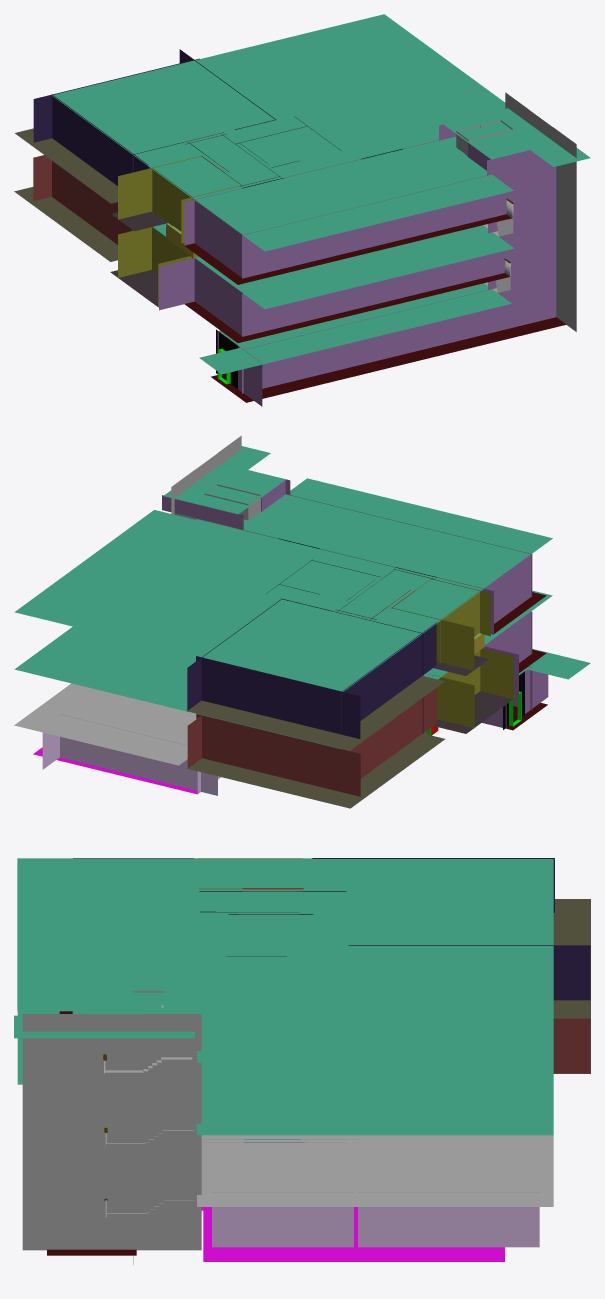
Rendered from Layout V3.fbx.
The picture shows the model from 3 angles, top to bottom: view 1: azimuth 30°, elevation 25°; view 2: azimuth 150°, elevation 25°; view 3: azimuth 270°, elevation 25°; orthographic projection. The views are drawn at different scales.
Parts seen in each view (by area): view 1: stena_banq13 (×2), Stena_apartament42 (×2), Stena_apartament40 (×2), stena_banq12 (×2), Stena_apartament41 (×2), Stena_apartament39 (×2), Stena_koridor219, Stena_koridor284, Stena_koridor263, Stena_koridor271, Stena_koridor285, Stena_koridor270 (+115 smaller); view 2: Stena_apartament39 (×2), Stena_apartament38 (×2), stena_banq13 (×2), Stena_koridor190 (×2), Stena_koridor189 (×2), Stena_koridor186 (×2), Stena_koridor184 (×2), Stena_koridor191 (×2), Stena_apartament42 (×2), Stena_apartament41 (×2), Stena_koridor185 (×2), stena_banq8 (×2) (+100 smaller); view 3: Stena_apartament47 (×2), Stena_koridor265, Stena_koridor226, Stena_koridor225, Stena_koridor268, Stena_koridor267, Stena_koridor240, Stena_koridor266, Stena_koridor230, Stena_koridor228, Stena_koridor241, Stena_koridor190 (×2) (+99 smaller).
Boxes of the visible parts, <box> form: stena_banq13 (×2): <box>118,166,159,277</box>; Stena_apartament42 (×2): <box>75,112,99,231</box>; Stena_apartament40 (×2): <box>52,94,75,213</box>; stena_banq12 (×2): <box>152,168,176,273</box>; Stena_apartament41 (×2): <box>99,130,124,244</box>; Stena_apartament39 (×2): <box>33,89,75,200</box>; Stena_koridor219: <box>159,258,194,310</box>; Stena_koridor284: <box>488,280,528,333</box>; Stena_koridor263: <box>488,165,528,218</box>; Stena_koridor271: <box>488,224,528,276</box>; Stena_koridor285: <box>528,273,556,323</box>; Stena_koridor270: <box>528,217,556,266</box>; Stena_apartament39 (×2): <box>319,686,360,796</box>; Stena_apartament38 (×2): <box>278,676,319,786</box>; stena_banq13 (×2): <box>433,618,474,728</box>; Stena_koridor190 (×2): <box>14,595,78,679</box>; Stena_koridor189 (×2): <box>56,605,119,689</box>; Stena_koridor186 (×2): <box>79,588,143,672</box>; Stena_koridor184 (×2): <box>38,578,101,661</box>; Stena_koridor191 (×2): <box>97,615,160,699</box>; Stena_apartament42 (×2): <box>365,657,389,774</box>; Stena_apartament41 (×2): <box>389,640,413,757</box>; Stena_koridor185 (×2): <box>120,598,183,681</box>; stena_banq8 (×2): <box>472,588,513,698</box>; Stena_apartament47 (×2): <box>530,945,590,1073</box>; Stena_koridor265: <box>22,1077,82,1140</box>; Stena_koridor226: <box>82,1077,142,1140</box>; Stena_koridor225: <box>142,1077,201,1140</box>; Stena_koridor268: <box>22,1014,82,1077</box>; Stena_koridor267: <box>22,1195,82,1250</box>; Stena_koridor240: <box>82,1014,142,1077</box>; Stena_koridor266: <box>22,1141,82,1195</box>; Stena_koridor230: <box>82,1195,142,1250</box>; Stena_koridor228: <box>142,1141,201,1195</box>; Stena_koridor241: <box>142,1014,201,1077</box>; Stena_koridor190 (×2): <box>493,1037,553,1135</box>.
Size of the model in its own units: 2722 by 1408 by 2869.
